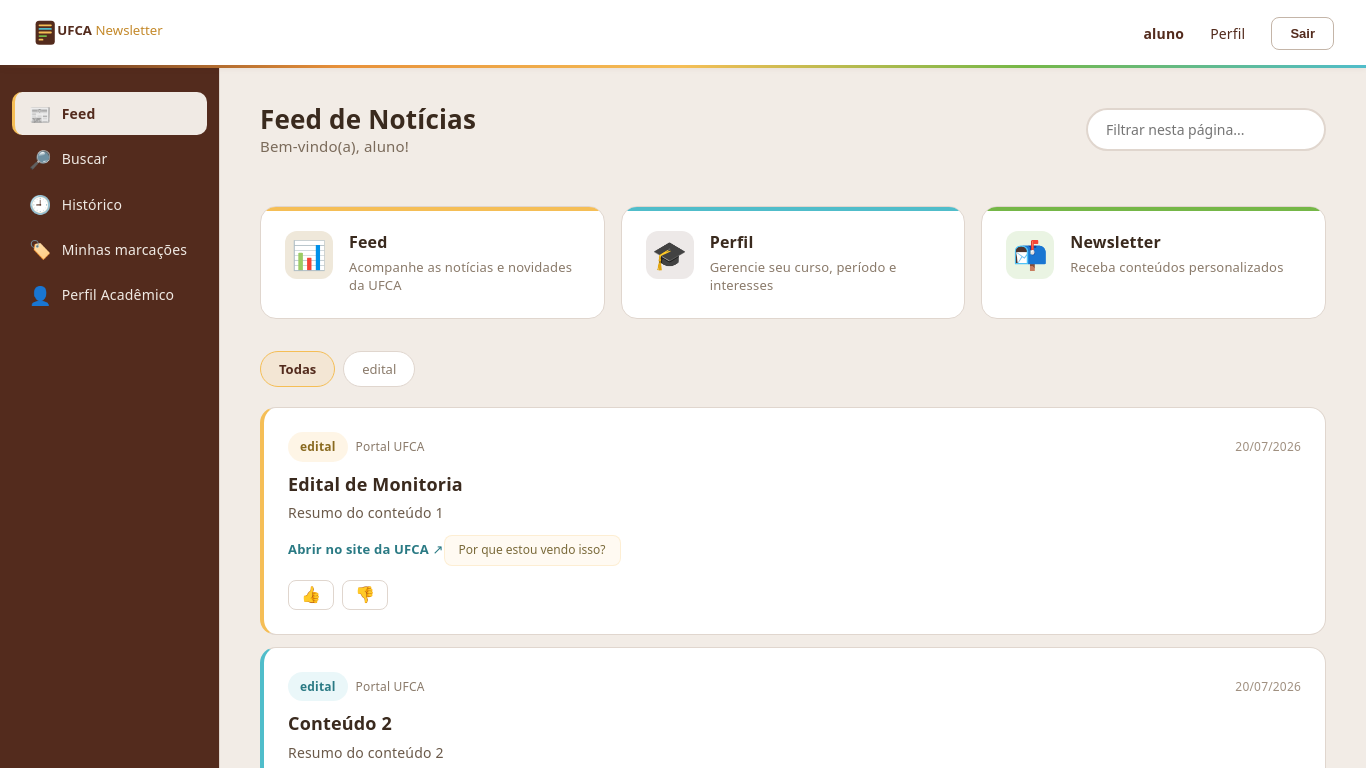
Dashboard — filtro local › filtra os itens já carregados e explica que o filtro é só da página
expect the heading "Edital de Monitoria" is shown: met, box [288,472,463,496]
Type "monitoria" into the field named "Filtrar os conteúdos desta página".
click(1206, 130); type("monitoria")  # box [1086,108,1326,151]
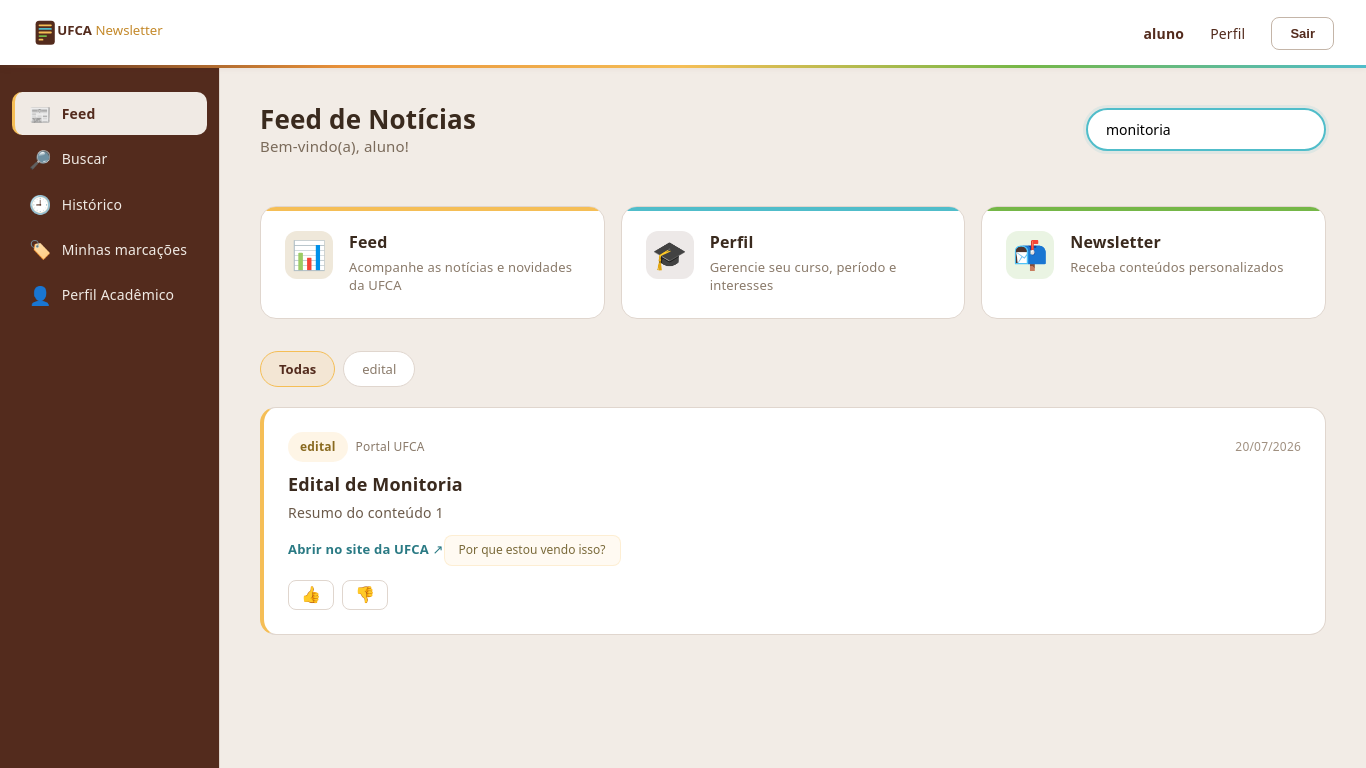
expect the heading "Edital de Monitoria" is shown: met, box [288,472,463,496]
expect the heading "Conteúdo 2" is gone: met
Replace the text in the field named "Filtrar os conteúdos desta página" with "inexistente" at (1206, 130), box [1086,108,1326,151]
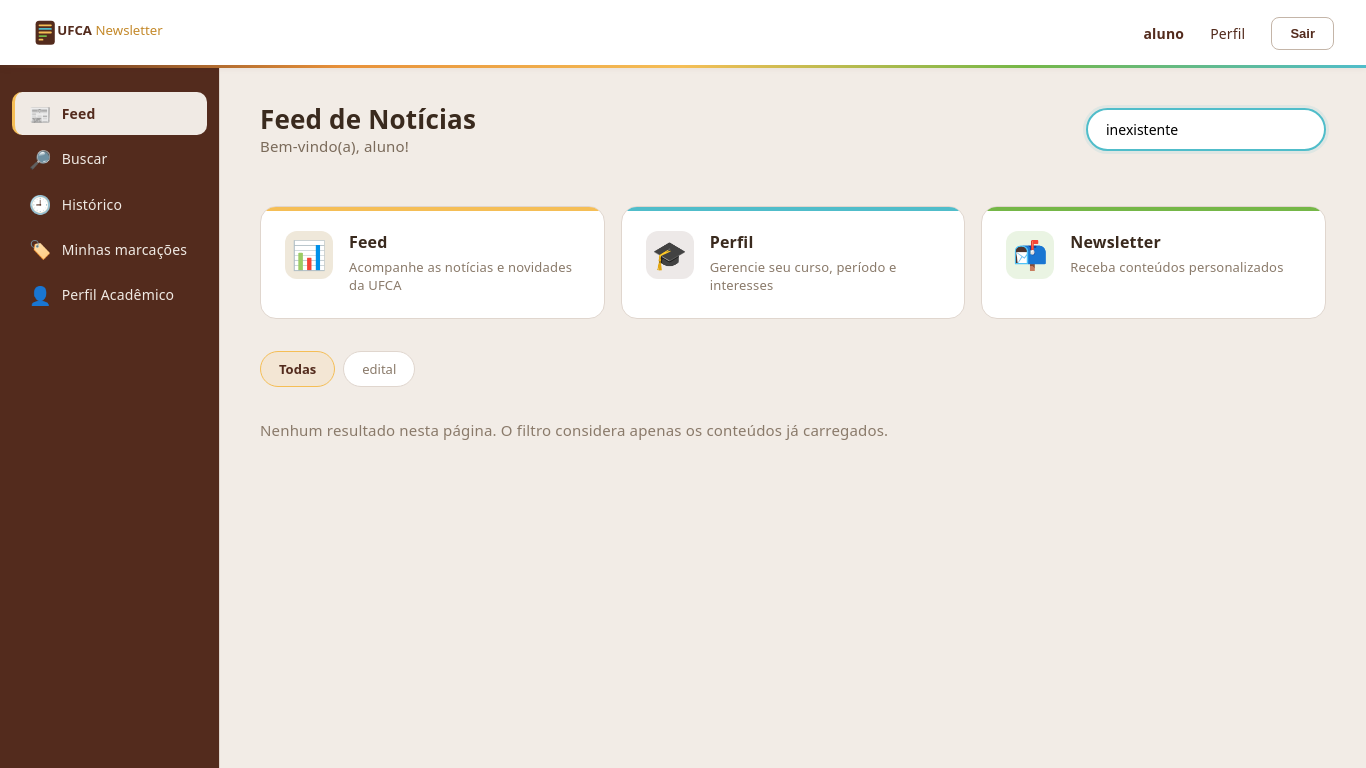
expect the text "Nenhum resultado nesta página" is shown: met, box [260,420,888,440]
